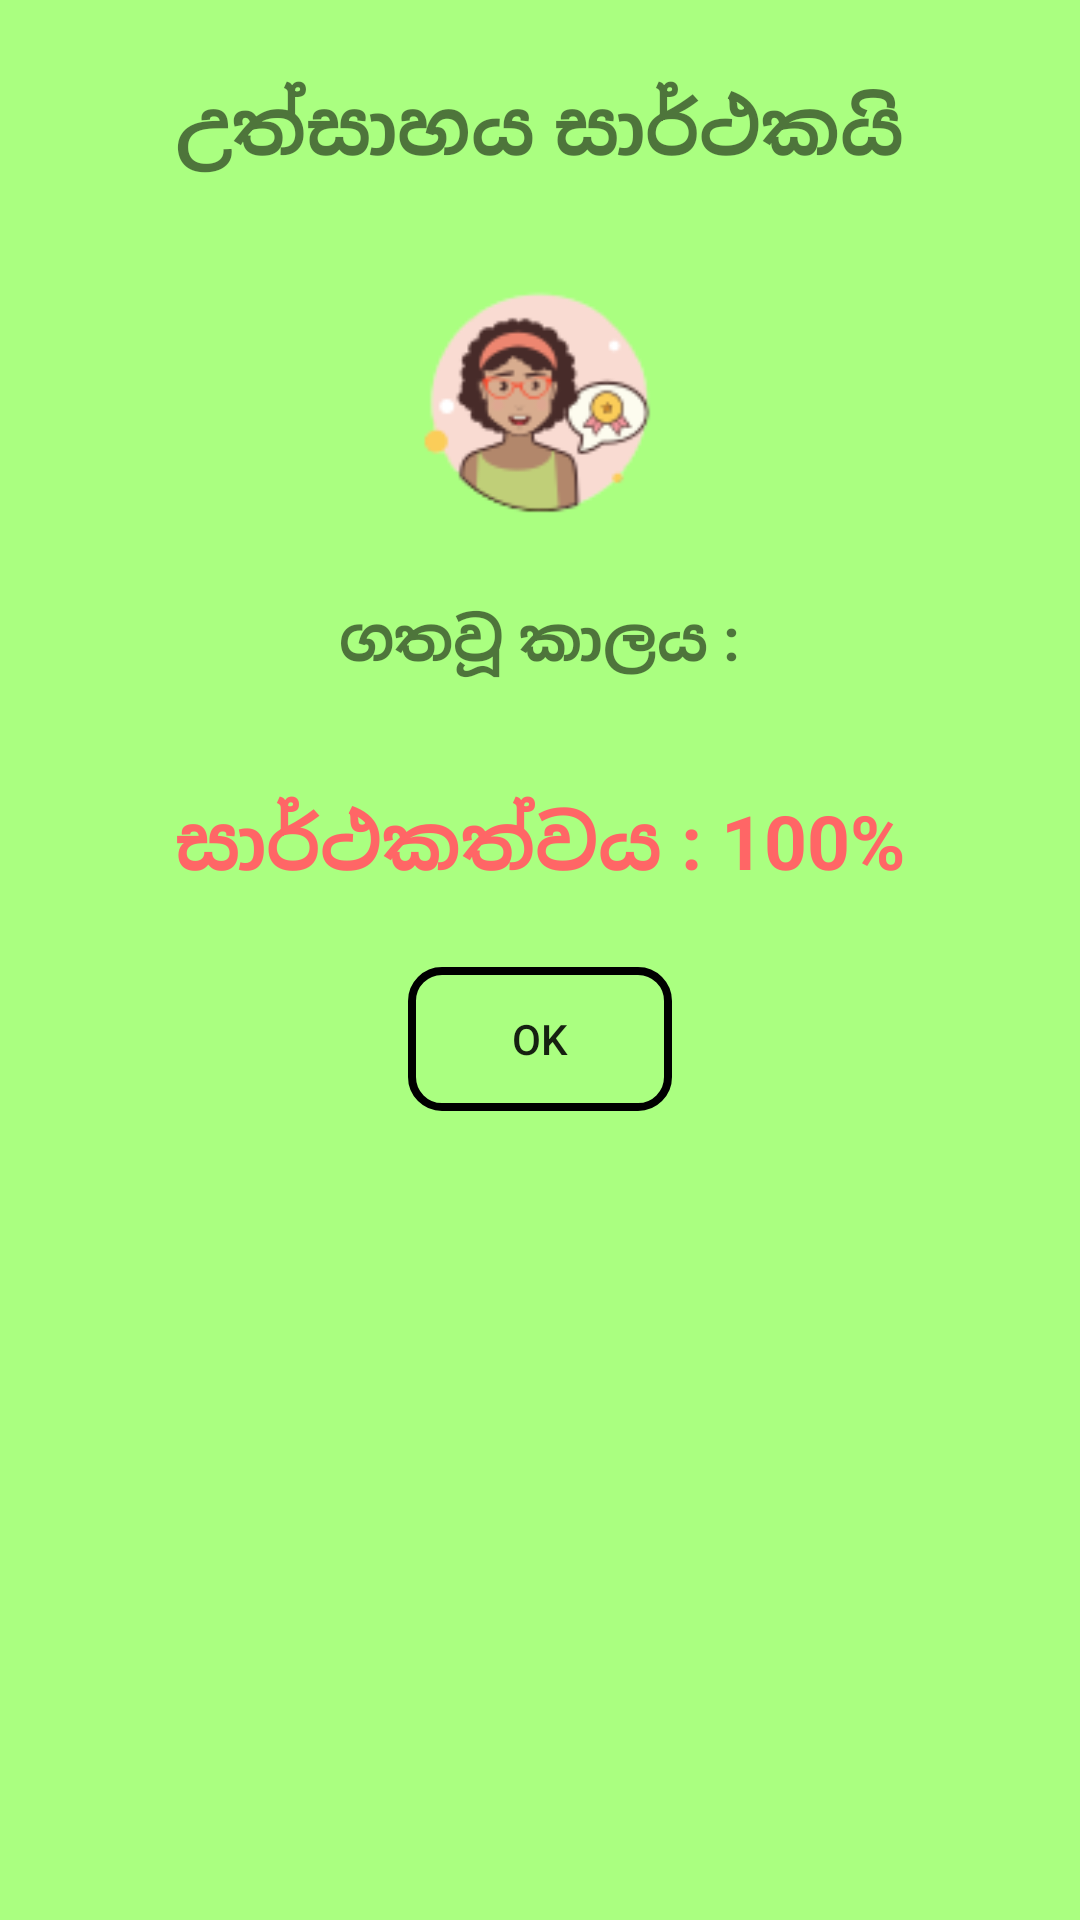

Icon click points for this 1080×1920 phone screenshot, format [x,y]:
success: [537,403]
